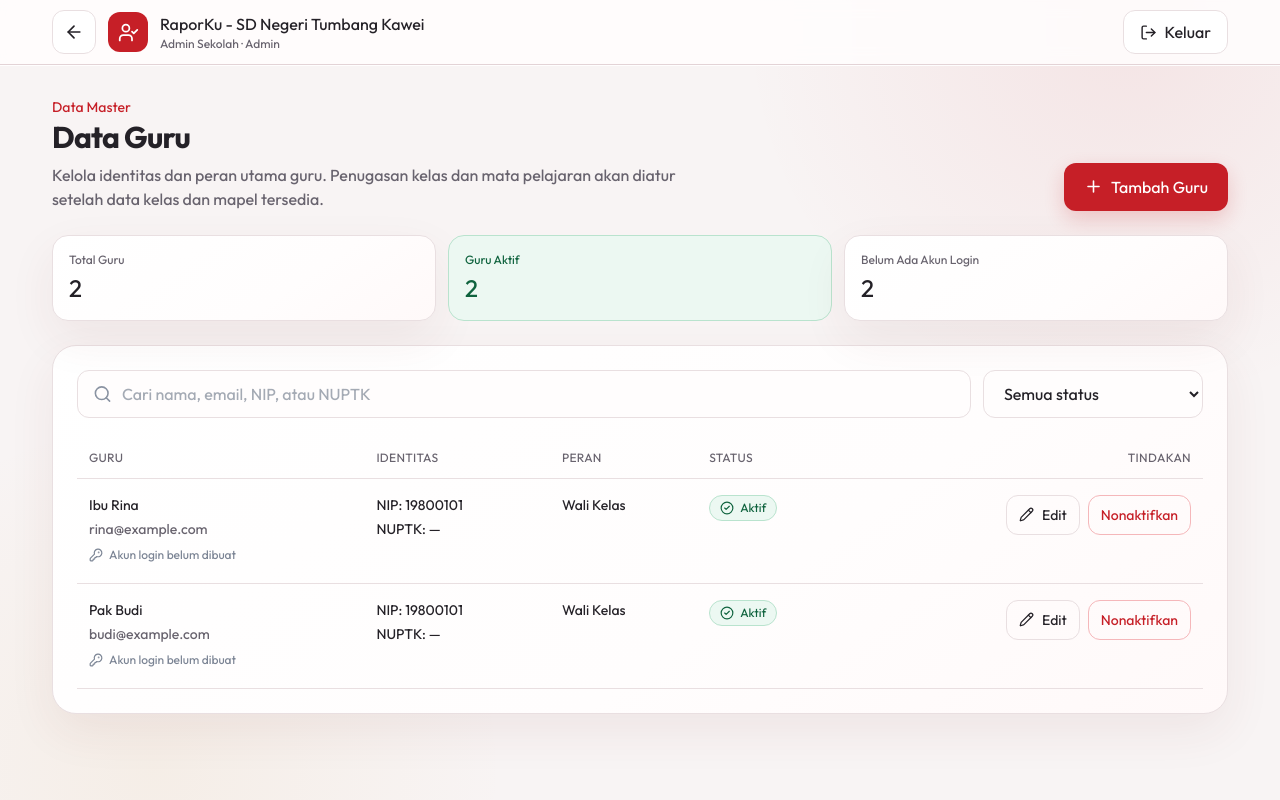
Test: TeacherPage › mencari guru tanpa membuka halaman lain
Type "Budi" into the search field named "Cari guru" at (524, 394), box [77,370,971,418]
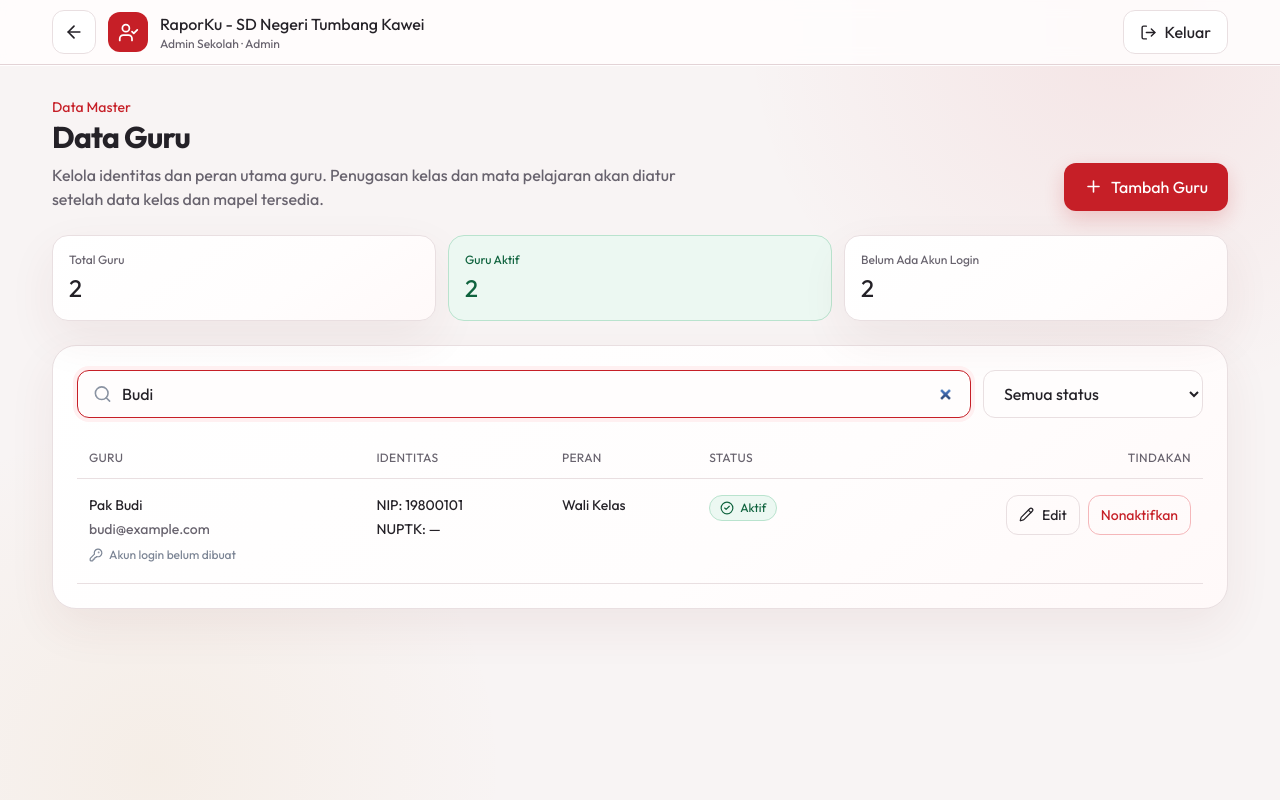
Expected: the text "Ibu Rina" is gone
